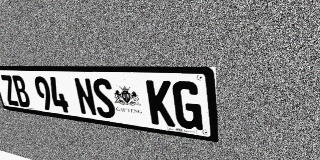4: (47, 77, 70, 113)
9: (33, 76, 55, 111)
B: (11, 75, 32, 108)
G: (172, 81, 203, 131)
K: (146, 80, 175, 127)
N: (73, 77, 98, 117)
S: (91, 78, 117, 119)
Z: (0, 75, 20, 106)
